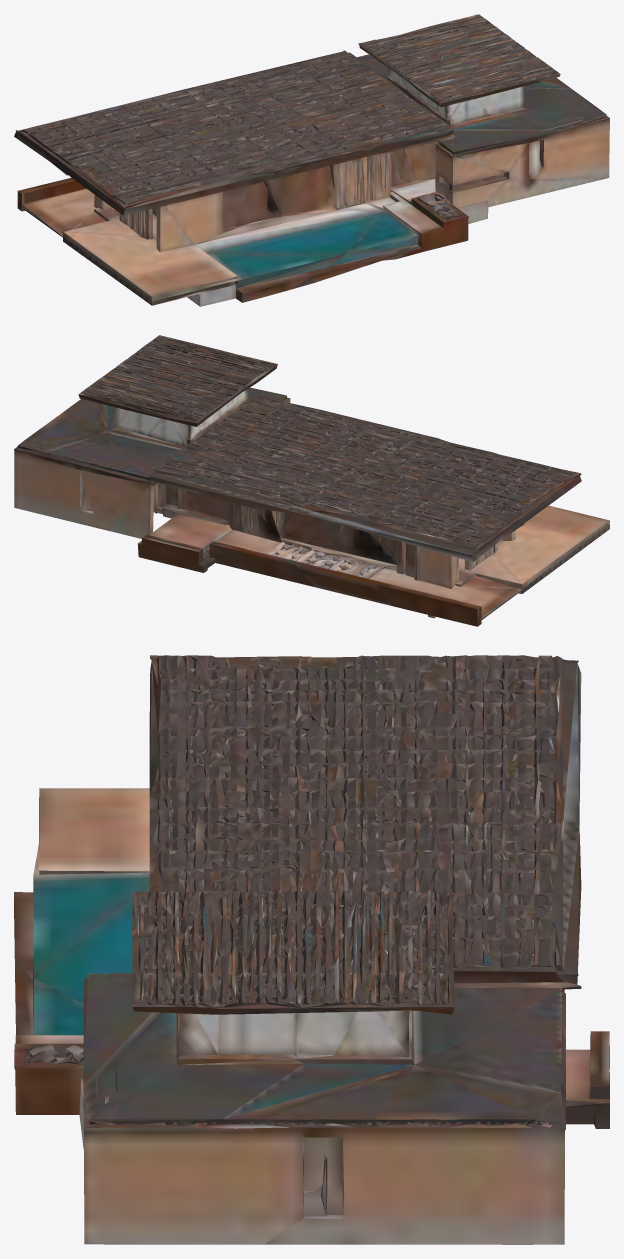
The model's file is manor.glb.
3 renders of one model, top to bottom at view 1: azimuth 30°, elevation 25°; view 2: azimuth 150°, elevation 25°; view 3: azimuth 270°, elevation 25°, orthographic. The views are drawn at different scales.
Size of the model in its own units: 1.9 by 0.4765 by 1.06.
Materials: 1 (1 with a texture image).
